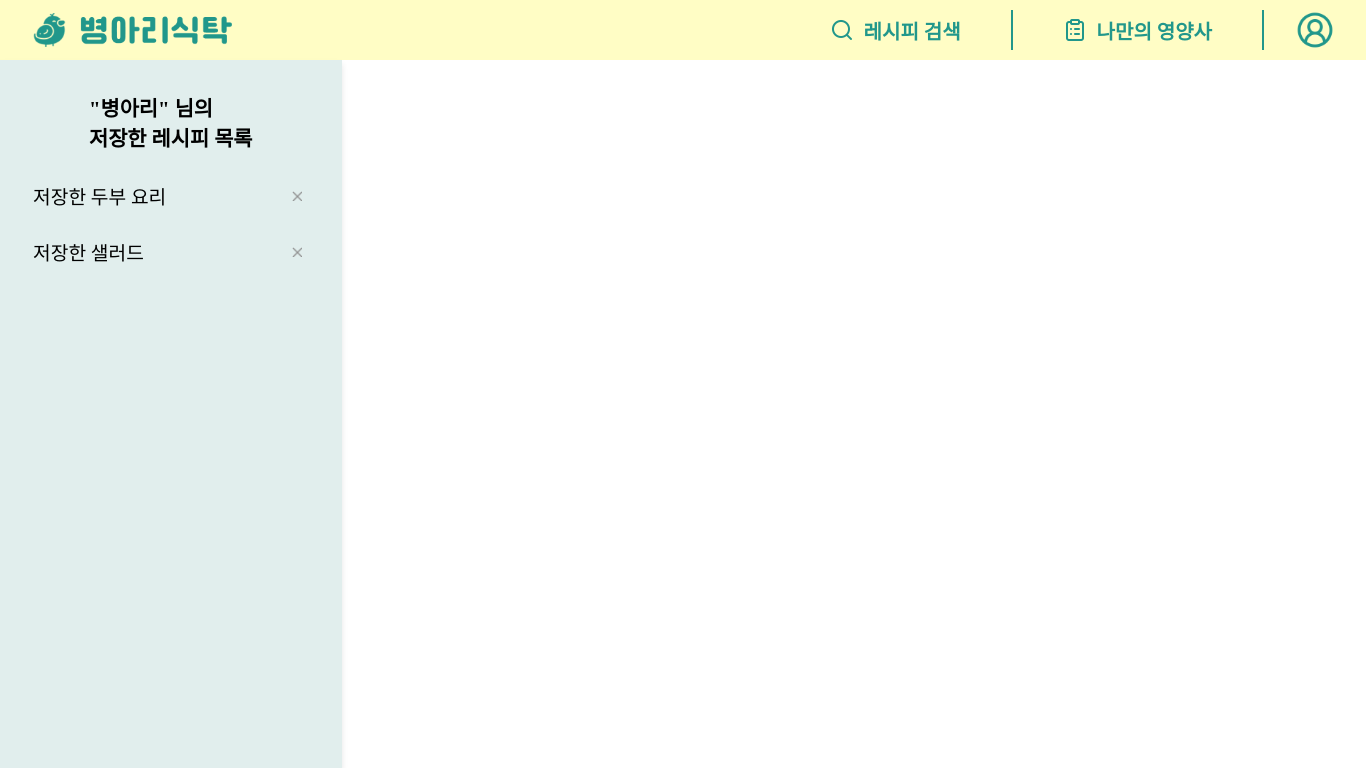
Test case: 저장한 레시피 › 보고 있던 레시피를 삭제하면 상세 내용도 사라진다
What coordinates should you click on to do the following:
click the text "저장한 두부 요리"
I would click on:
 (100, 196)
Its box is [33,182,166,210].
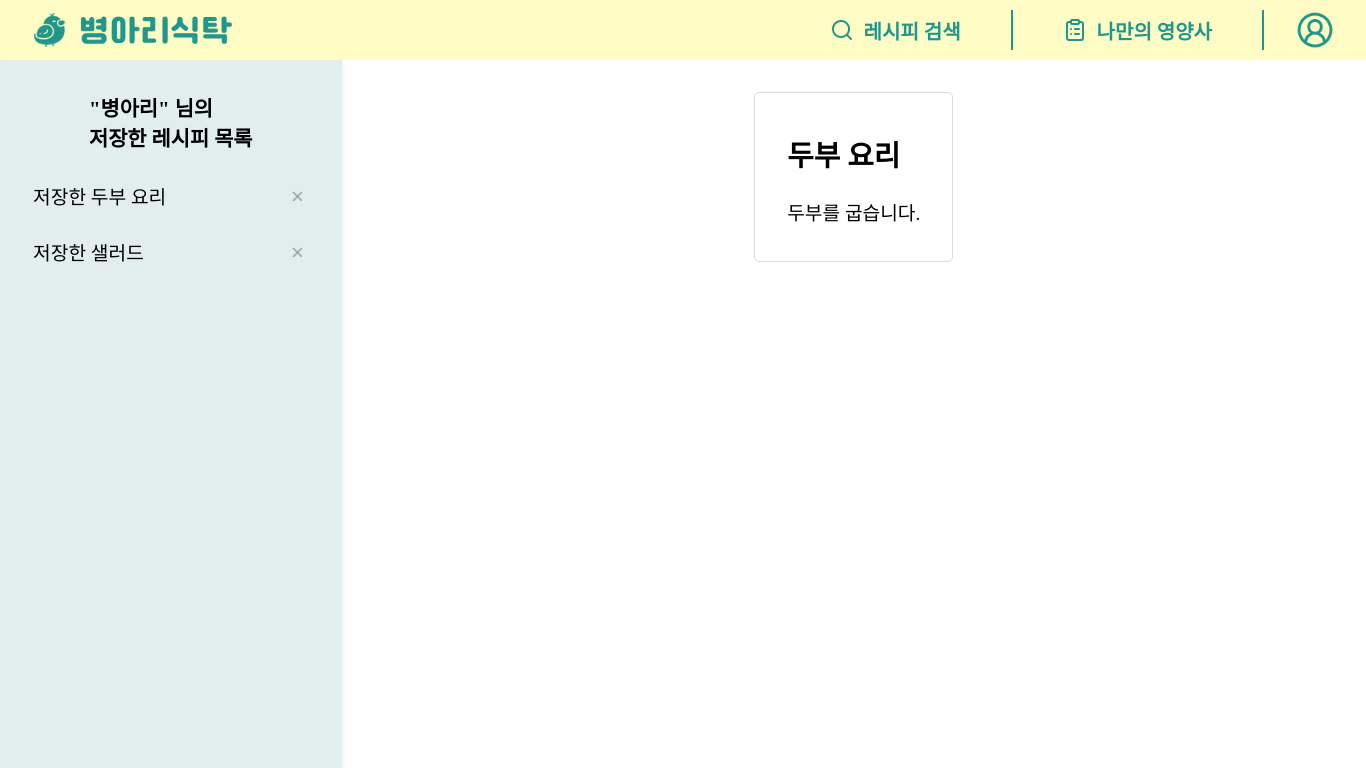
Result: the text "두부를 굽습니다." is shown at [787,198,920,226]
What coordinates should you click on to do the following:
click the button with alt text "x 아이콘" next to "저장한 두부 요리"
I would click on:
 (297, 196)
Its box is [286,188,308,204].
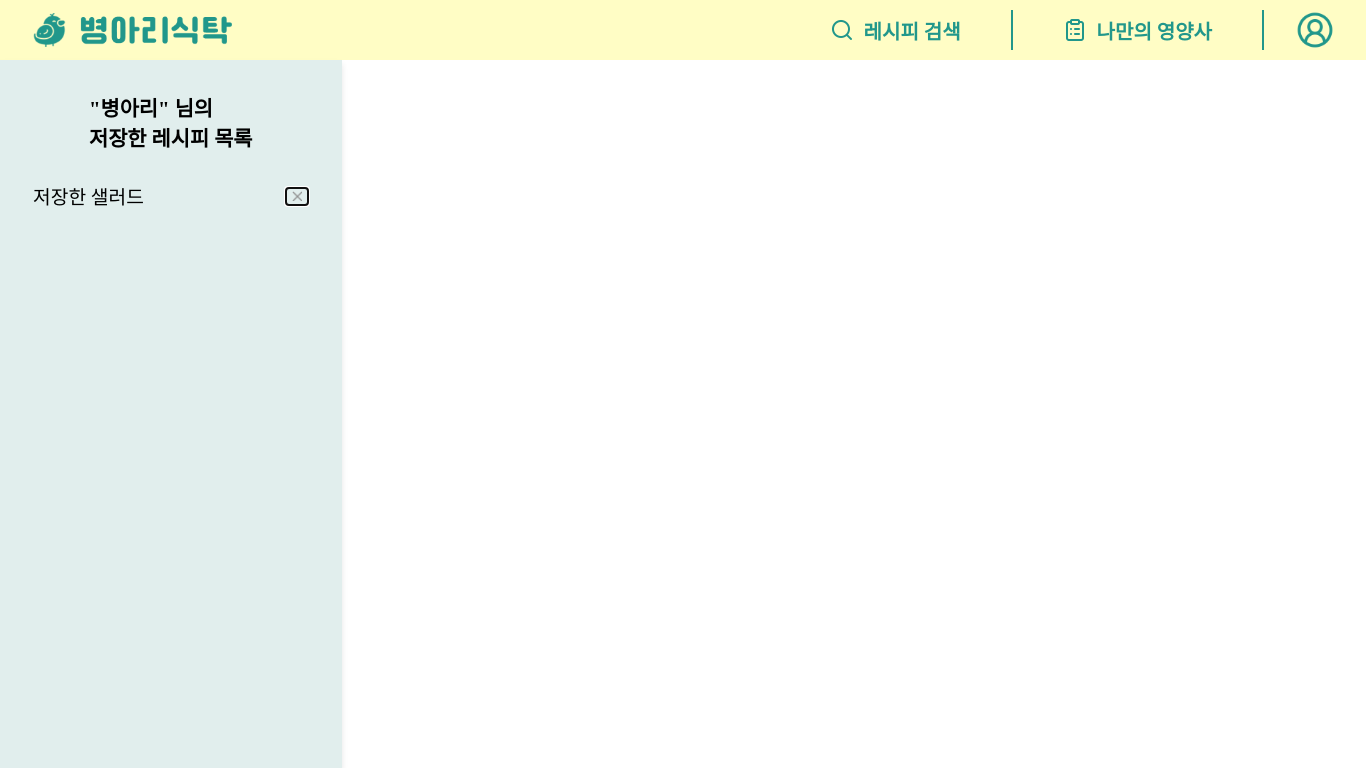
Result: the text "두부를 굽습니다." is gone
